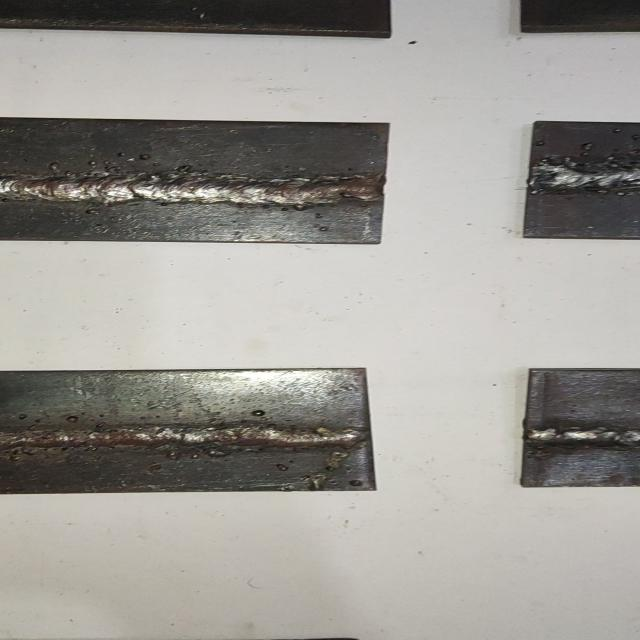Defect: (529, 159, 640, 198)
Good Weld: (0, 173, 378, 207), (3, 424, 365, 454), (530, 423, 638, 449)
